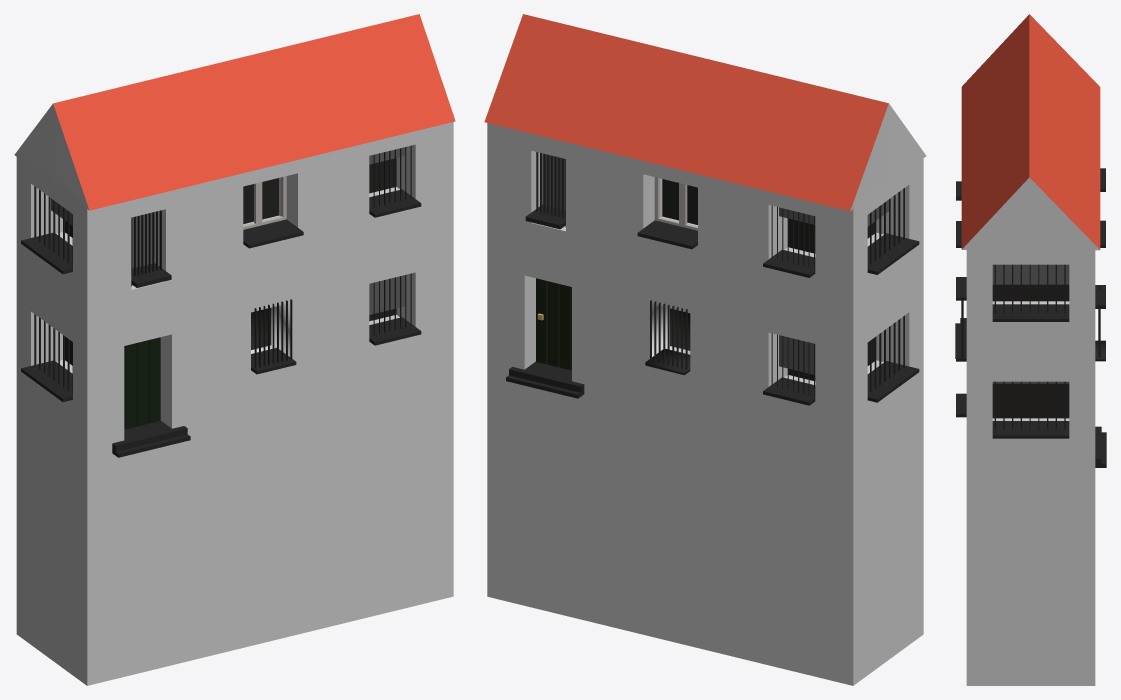
The model's file is casa procedural_relleno_Con sotano_5.fbx.
3 views of the same model, side by side, from view 1: azimuth 30°, elevation 25°; view 2: azimuth 150°, elevation 25°; view 3: azimuth 270°, elevation 25° (orthographic). The views are drawn at different scales.
Visible parts, largest first — view 1: Procedural_Building_straight.005; view 2: Procedural_Building_straight.005; view 3: Procedural_Building_straight.005.
Boxes of the visible parts, x1,y1,x2,y2 form: Procedural_Building_straight.005: (14,14,455,685); Procedural_Building_straight.005: (484,14,926,685); Procedural_Building_straight.005: (955,14,1106,685).
Size of the model in its own units: 316 by 436 by 118.
